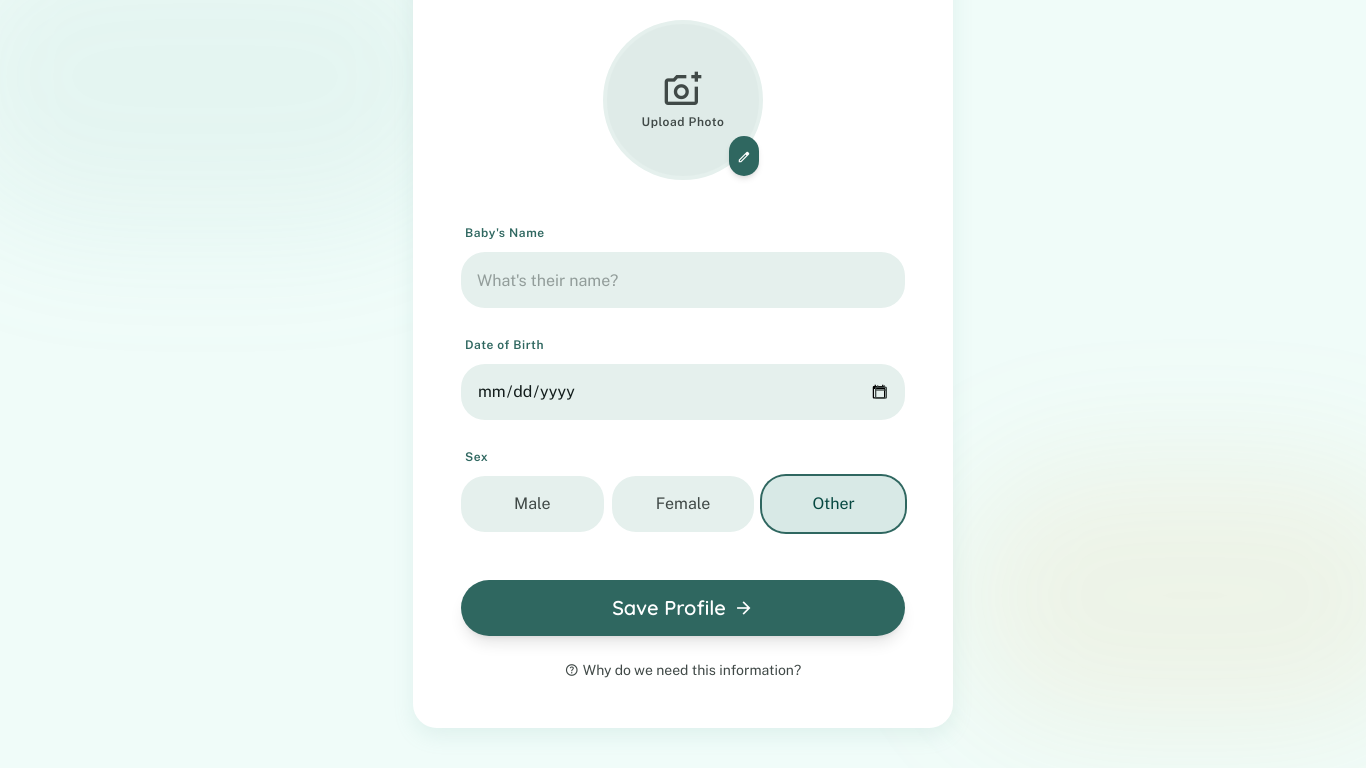
profile pages › keeps the profile information disclosure keyboard accessible
This screenshot has width=1366, height=768.
(page scrolled)
Click the button "Why do we need this information?" at coordinates (683, 670), box [565,660,801,680]
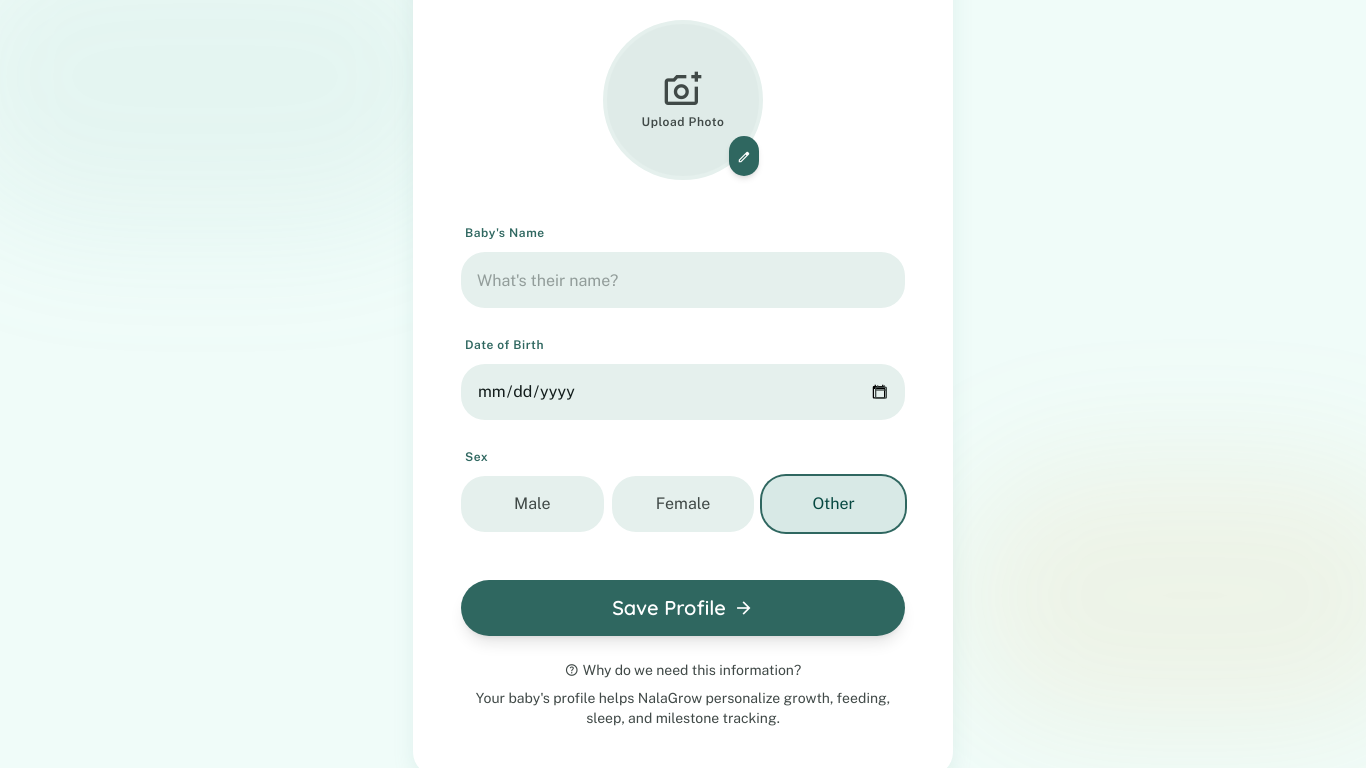
Expected: the text "personalize growth, feeding, sleep" is shown, [476,690,890,726]
